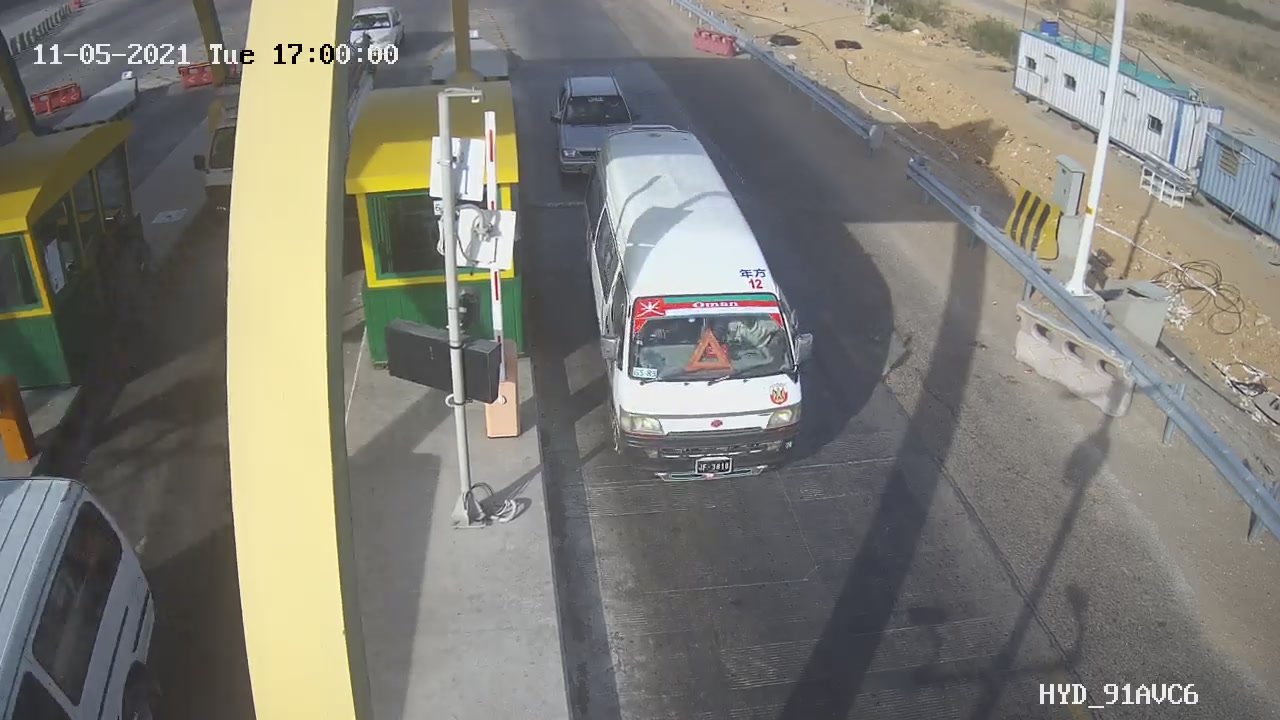F2: (565, 112, 837, 501)
